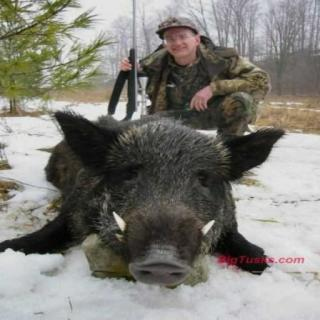Pig: (21, 79, 266, 301)
